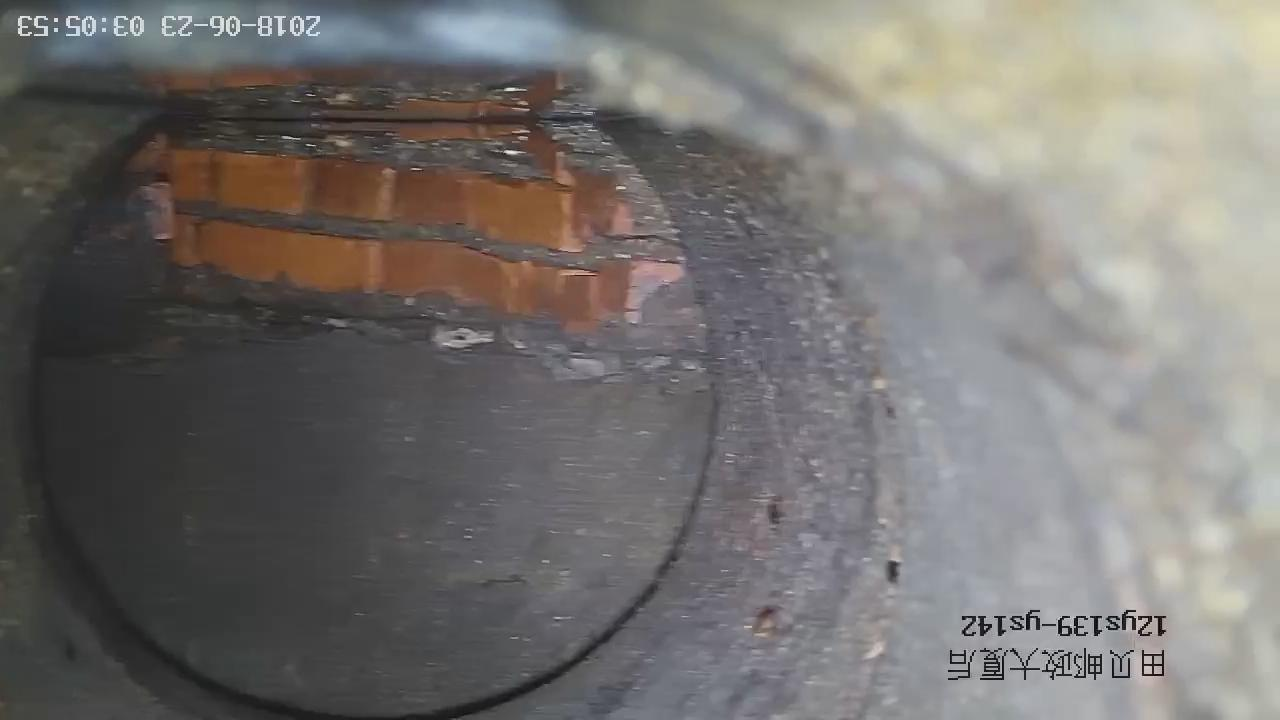CQBG: (46, 82, 705, 379)
